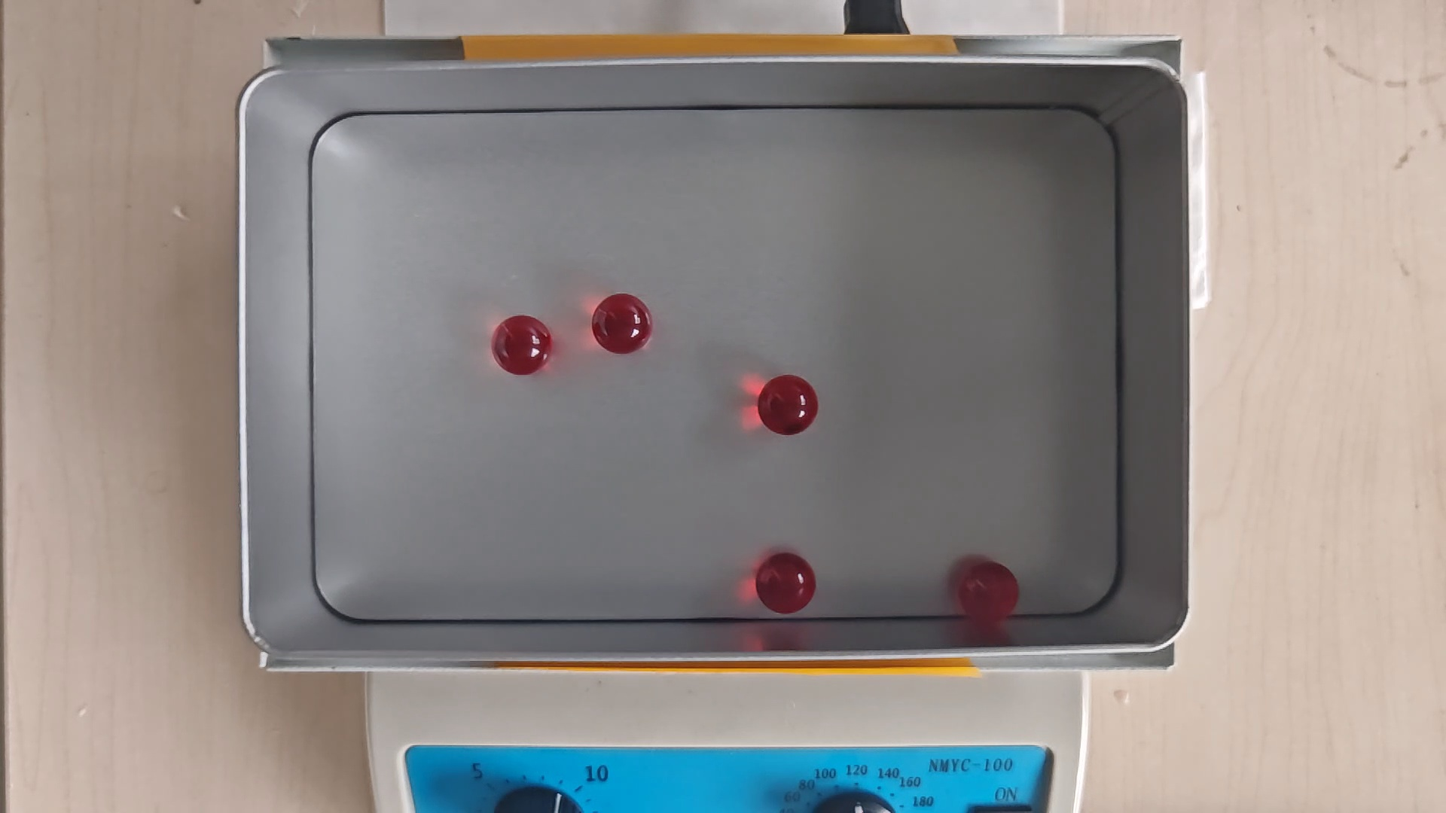ball: (758, 374, 820, 436), (961, 561, 1018, 626), (758, 551, 817, 613), (593, 293, 651, 353), (495, 317, 551, 375)
container: (311, 108, 1119, 620)
